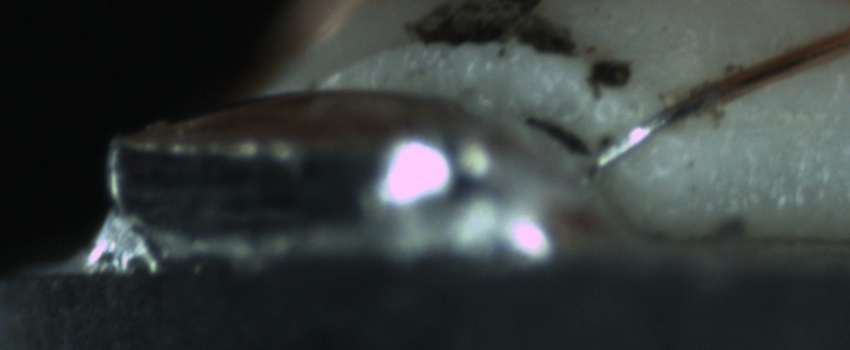TS: (587, 88, 720, 181)
TTCW: (589, 61, 762, 181)
